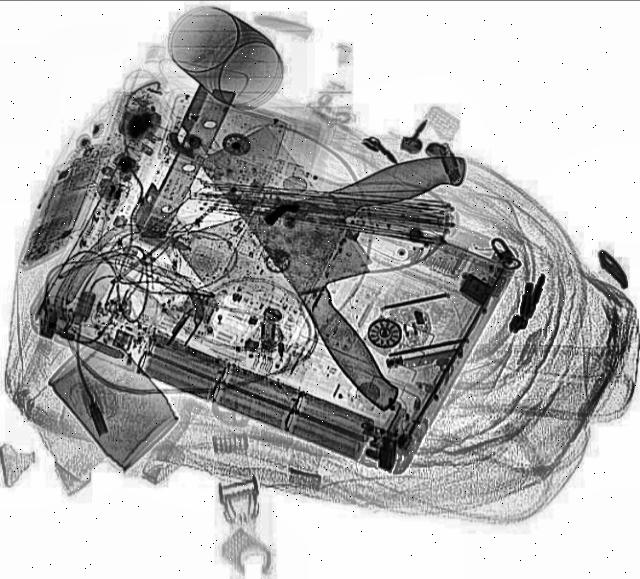Knife: (191, 121, 454, 417), (167, 146, 495, 318)
